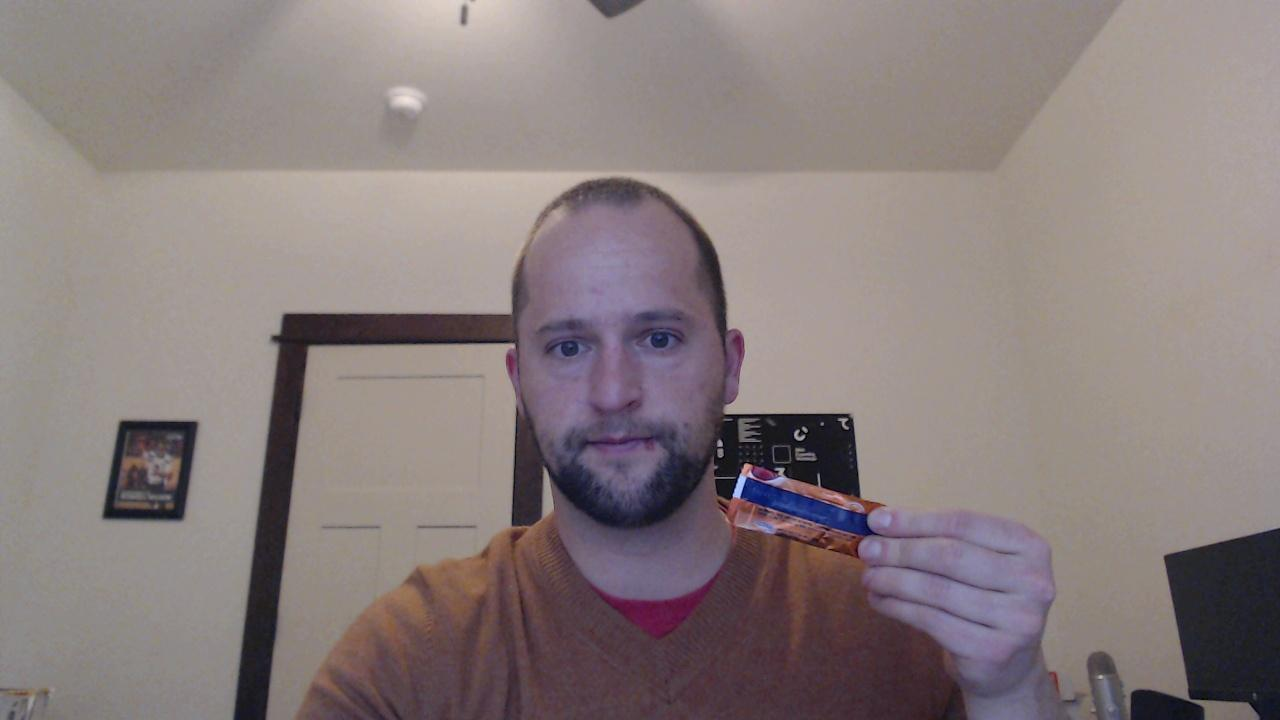airheads: (721, 456, 910, 571)
